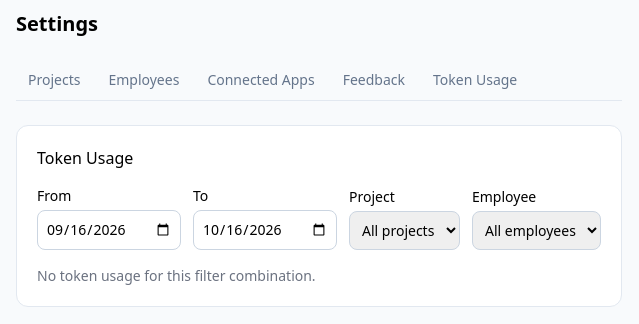
SettingsTokenUsagePage › shows an inline error and does not query when From is after To
Type "2026-08-20" into the date field labelled "From". click: (109,230)
box: x1=37 y1=210 x2=181 y2=250
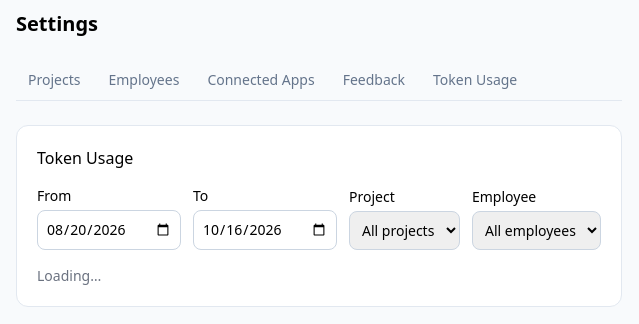
Type "2026-08-01" into the date field labelled "To". click: (265,230)
box: x1=193 y1=210 x2=337 y2=250
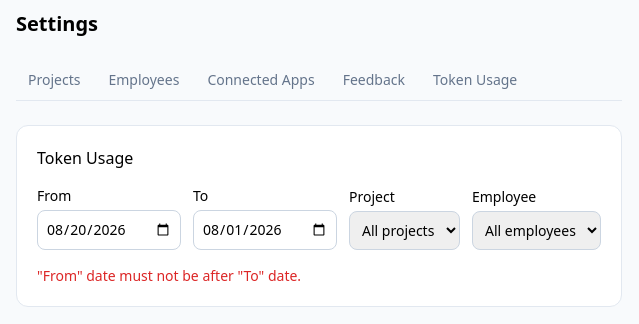
Now the text "\"From\" date must not be after \"To\" date." is shown, box x1=37 y1=266 x2=301 y2=285
